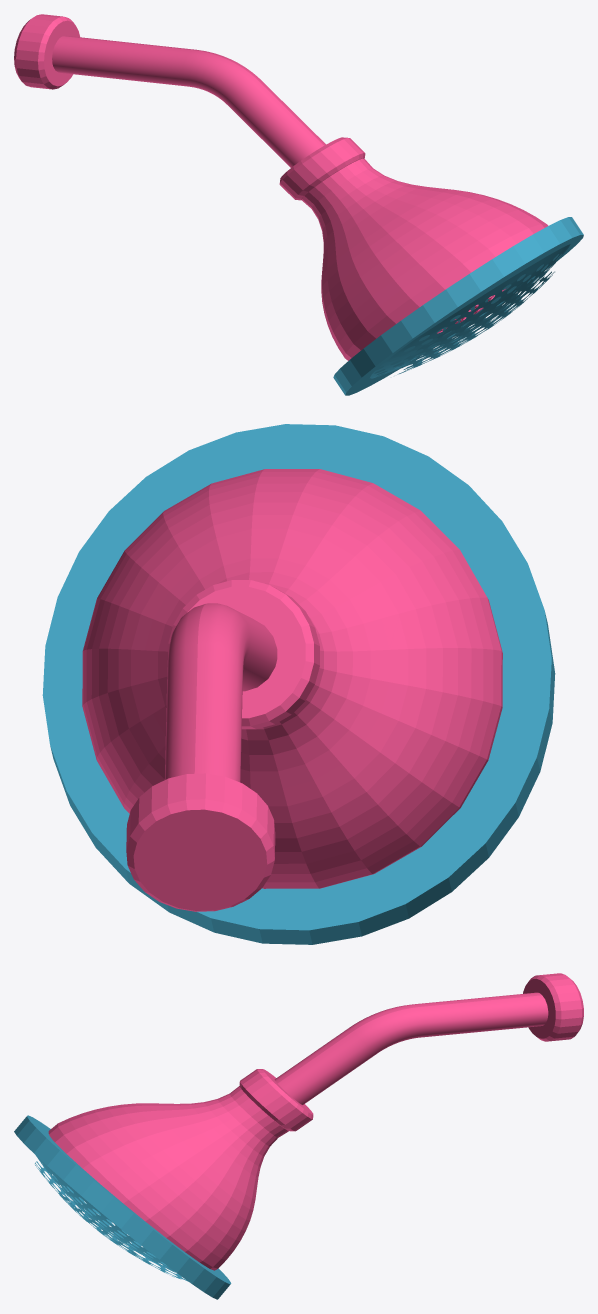
The model's file is Shower.fbx.
The picture shows the model from 3 angles, top to bottom: view 1: azimuth 30°, elevation 25°; view 2: azimuth 150°, elevation 25°; view 3: azimuth 270°, elevation 25°; orthographic projection. The views are drawn at different scales.
Visible parts, largest first — view 1: Object_0, Cylinder, Object_1; view 2: Object_0, Cylinder; view 3: Object_0, Cylinder, Object_1.
Boxes of the visible parts, x1=… form: Object_0: x1=14, y1=14, x2=548, y2=360; Cylinder: x1=333, y1=217, x2=583, y2=395; Object_1: x1=370, y1=244, x2=570, y2=378; Object_0: x1=82, y1=469, x2=502, y2=911; Cylinder: x1=42, y1=424, x2=555, y2=944; Object_0: x1=48, y1=973, x2=583, y2=1270; Cylinder: x1=14, y1=1115, x2=231, y2=1299; Object_1: x1=35, y1=1156, x2=188, y2=1281.
Size of the model in its own units: 1257 by 956 by 2009.
